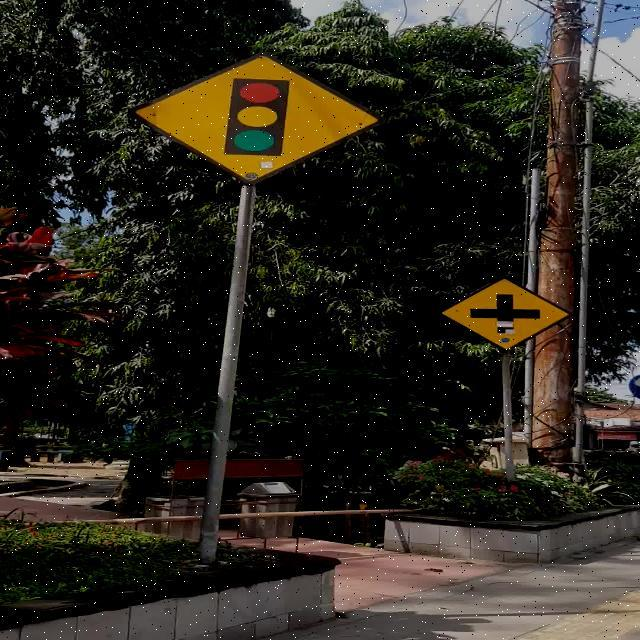Lampu Lalu Lintas: (128, 52, 386, 186)
